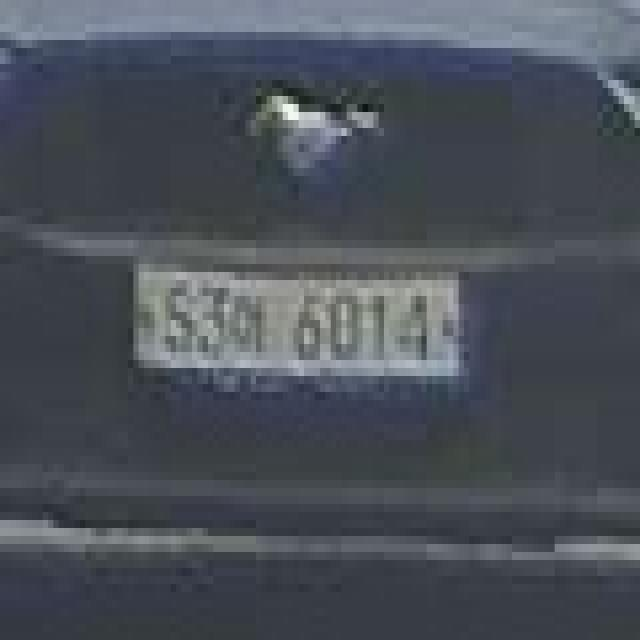0: (320, 256, 368, 384)
1: (357, 264, 395, 384)
3: (192, 272, 229, 376)
4: (400, 264, 437, 400)
5: (155, 280, 192, 368)
6: (288, 288, 325, 384)
eo: (229, 272, 267, 360)
license_plate: (123, 248, 469, 384)
